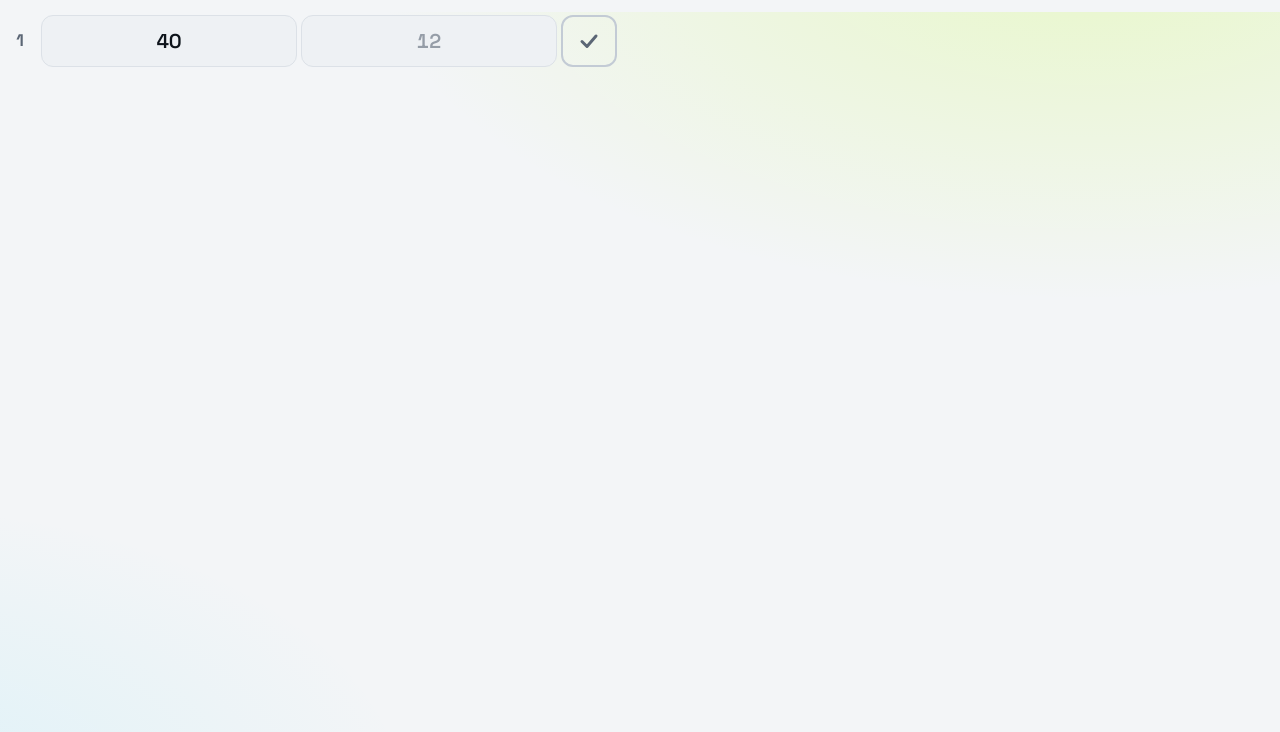
Test: SetRow › checking an empty set uses target reps and starts rest
Click the button named "Odhacz serię 1" at (589, 41), box [561, 15, 617, 67]
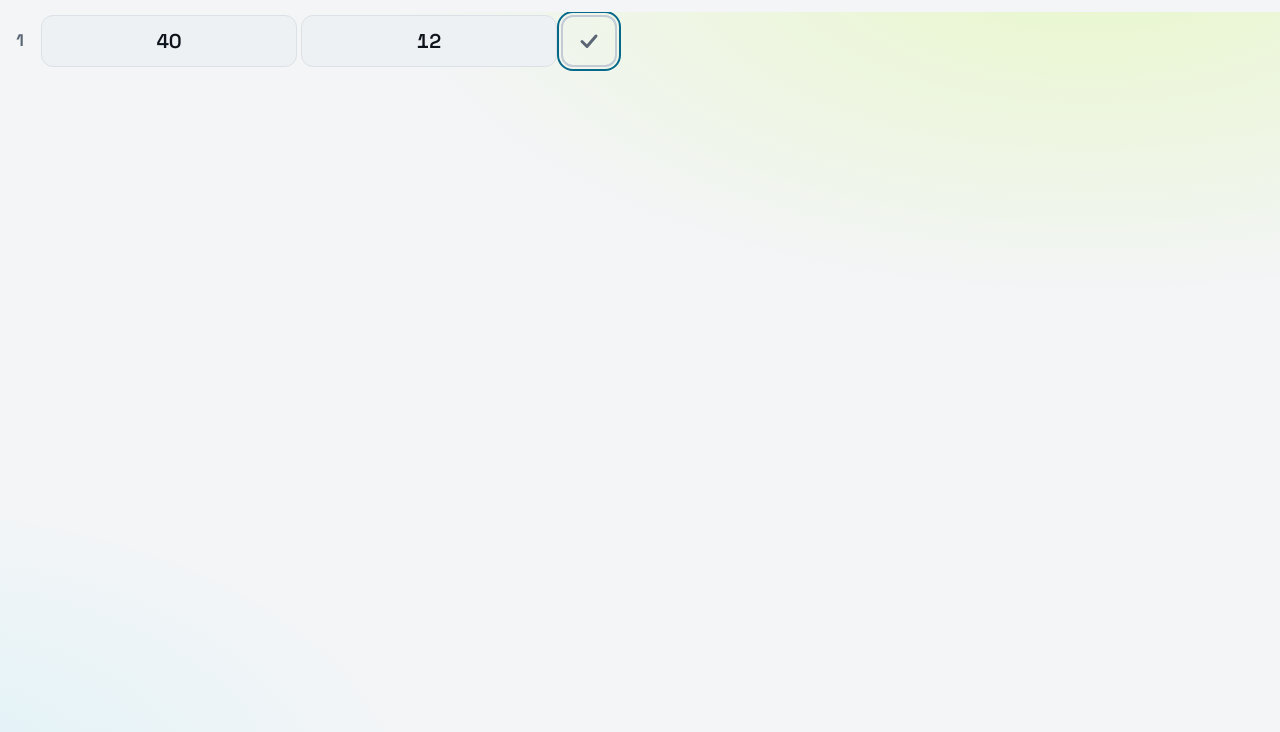
Check: the field named "Powtórzenia w serii 1" holds "12", box [301, 15, 557, 67]
